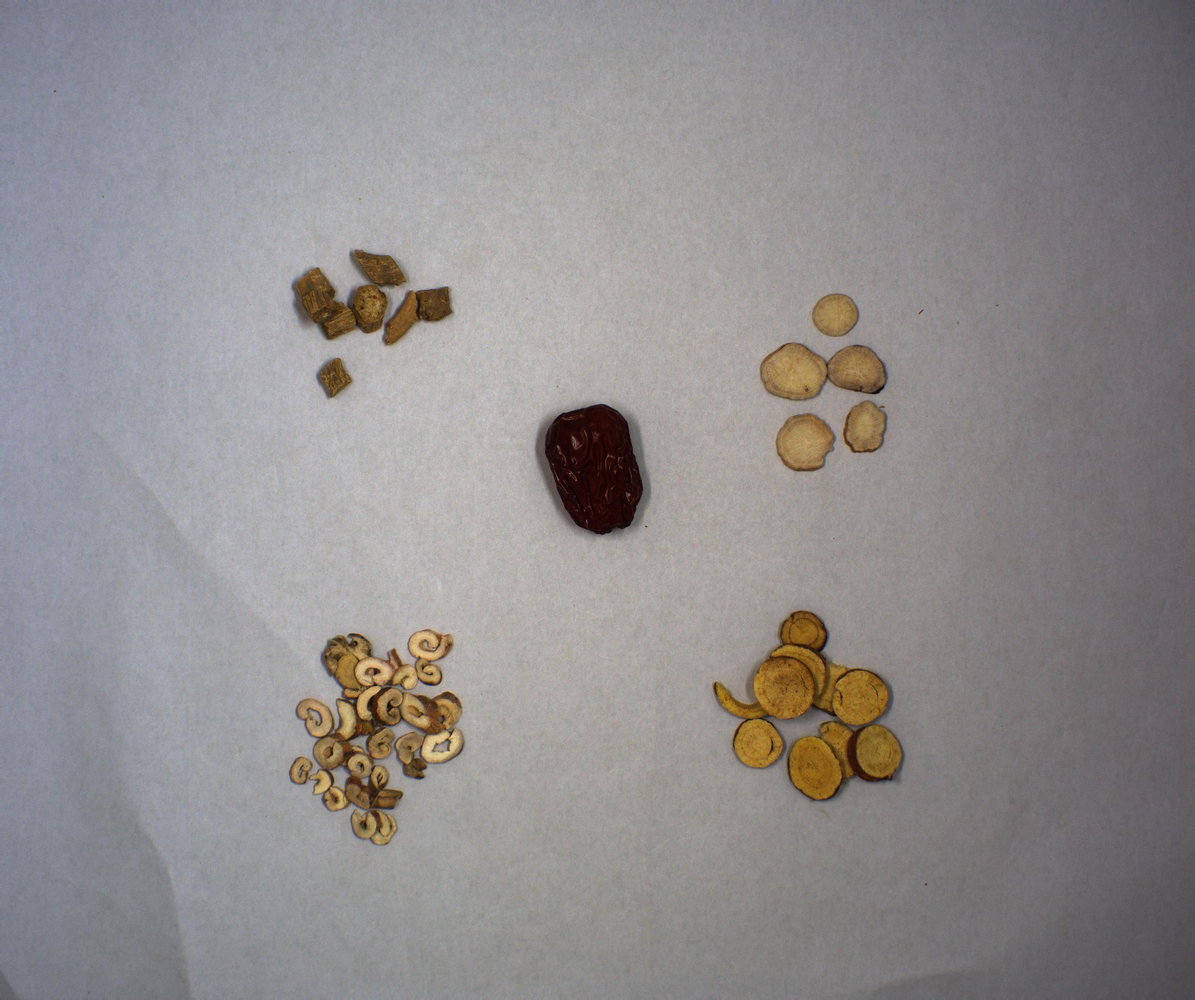baishao: (762, 292, 888, 473)
dazao: (548, 405, 649, 536)
gancao: (714, 616, 904, 800)
mudanpi: (290, 626, 466, 845)
niuxi: (292, 247, 453, 401)
